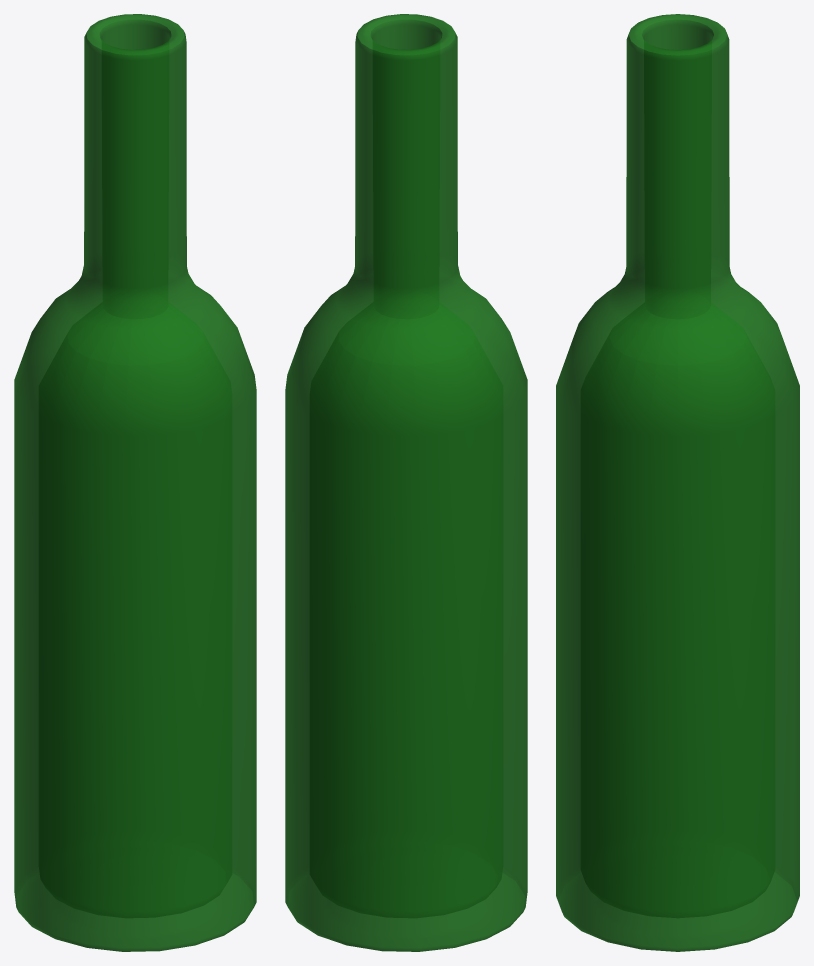
The model's file is GlassPrefab.fbx.
3 renders of one model, left to right at view 1: azimuth 30°, elevation 25°; view 2: azimuth 150°, elevation 25°; view 3: azimuth 270°, elevation 25°, orthographic.
Visible parts, largest first — view 1: pCylinder1; view 2: pCylinder1; view 3: pCylinder1.
Boxes of the visible parts, x1,y1,x2,y2 form: pCylinder1: (14, 14, 256, 951); pCylinder1: (285, 14, 527, 951); pCylinder1: (556, 14, 799, 951).
Size of the model in its own units: 2 by 7.88 by 2.
